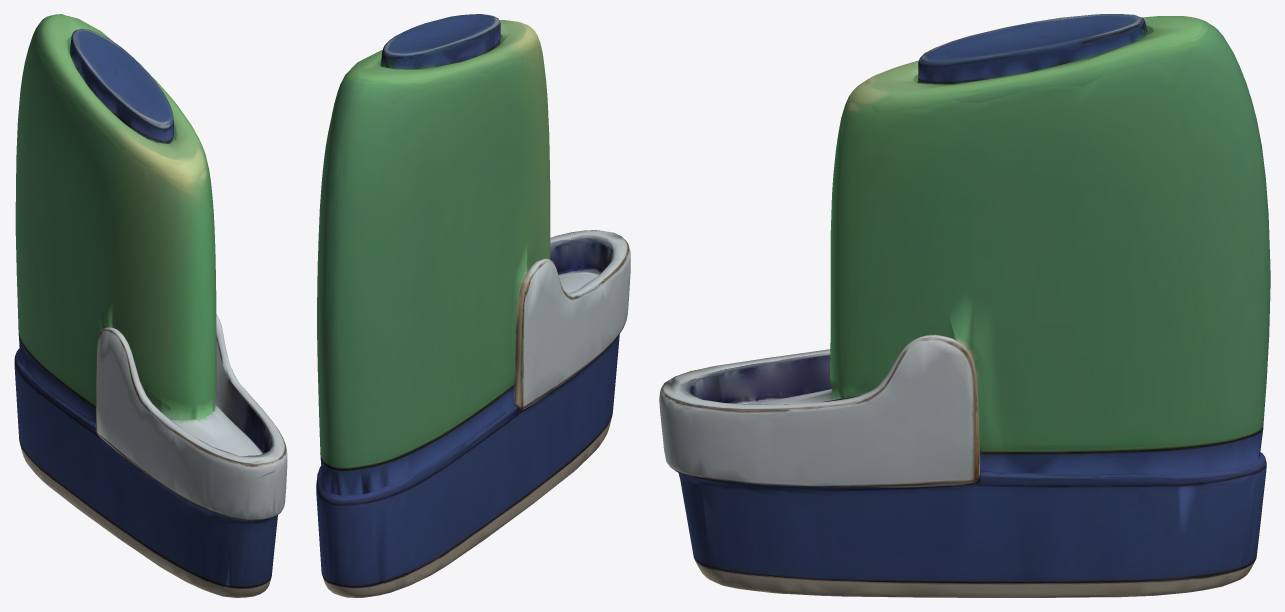
3 views of the same model, side by side, from view 1: azimuth 30°, elevation 25°; view 2: azimuth 150°, elevation 25°; view 3: azimuth 270°, elevation 25° (orthographic). The views are drawn at different scales.
Visible parts, largest first — view 1: node_0; view 2: node_0; view 3: node_0.
Part boxes in pixels (left/top/right/bottom): node_0: left=14, top=14, right=287, bottom=597; node_0: left=316, top=14, right=630, bottom=597; node_0: left=659, top=14, right=1270, bottom=597.
Bounding box in the file's own units: 1.74 × 7.42 × 7.42.
Materials: 1 (1 with a texture image).
